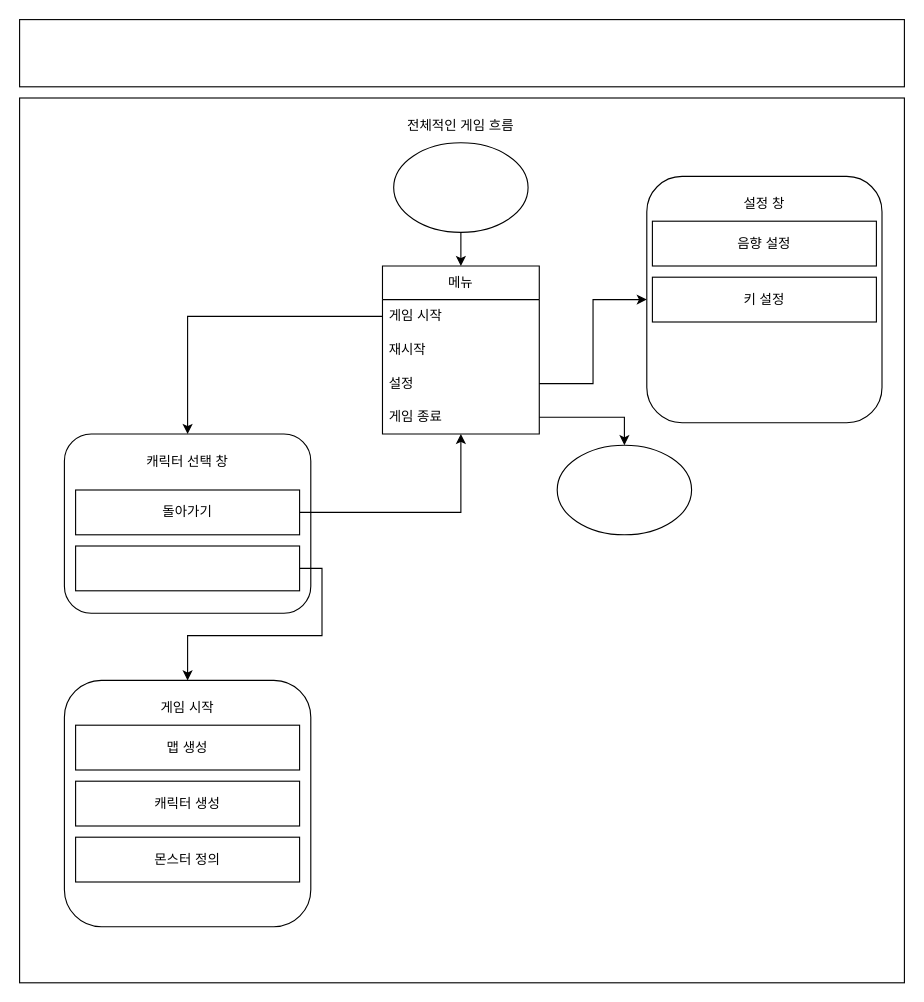
Some shapes in this 924 by 1002 pixel diagram are drawn without their labels. Here are the shapes that lost their labels. From the top down, the centre of each, then its label:
At point (461, 52): "아이작 모방 게임 제작".
At point (460, 187): "시작".
At point (624, 489): "종료".
At point (187, 568): "캐릭터 선택".
